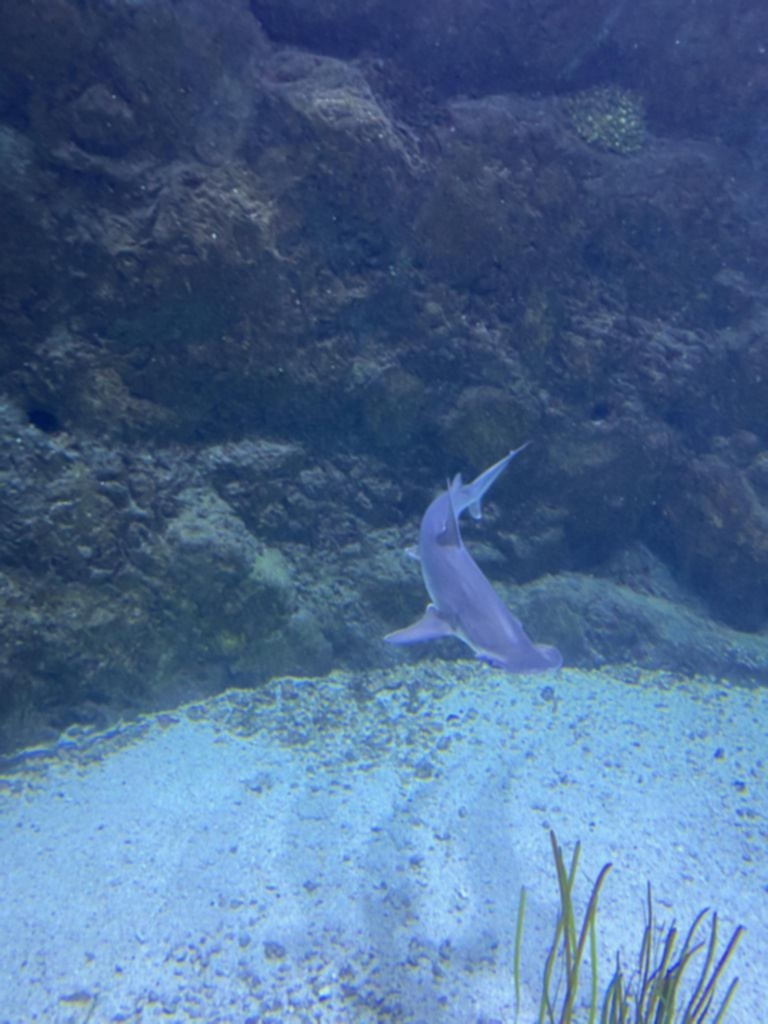shark: (382, 434, 562, 682)
